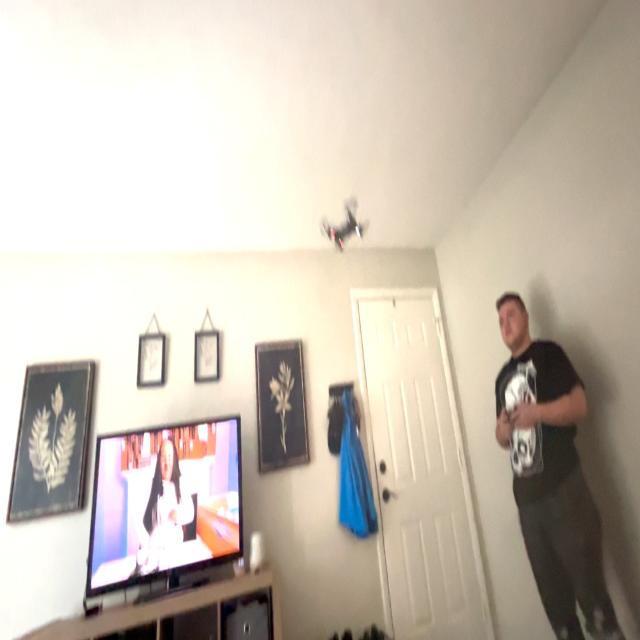drone: (312, 186, 373, 266)
